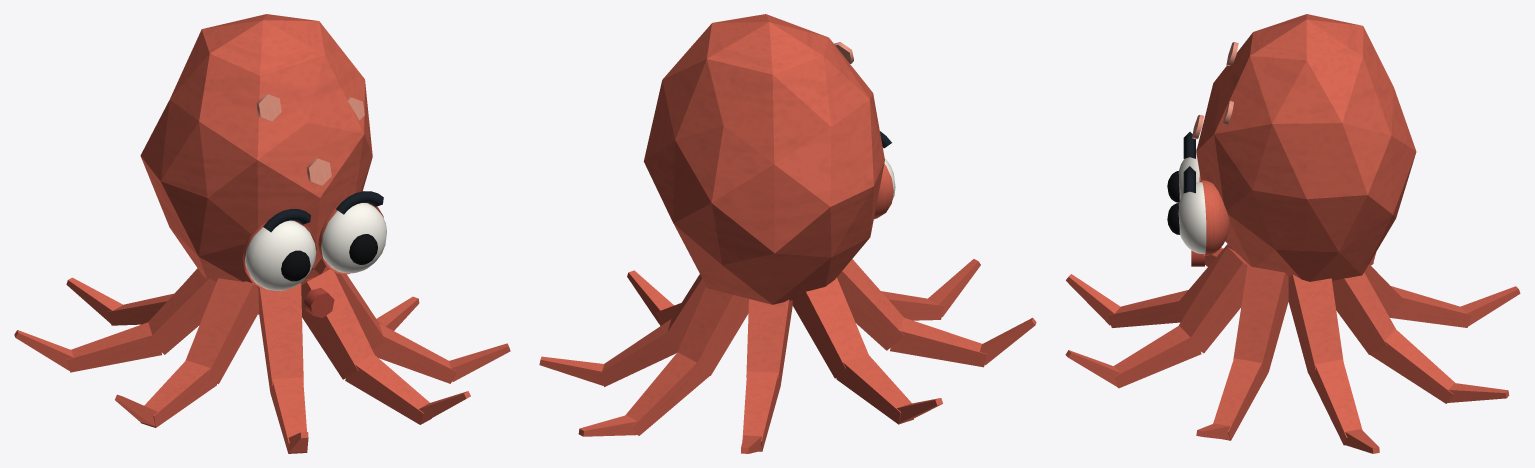
File: octopus.glb
3 renders of one model, left to right at view 1: azimuth 30°, elevation 25°; view 2: azimuth 150°, elevation 25°; view 3: azimuth 270°, elevation 25°, orthographic. The views are drawn at different scales.
Parts seen in each view (by area): view 1: head, t6, t0, t7, t5, tb0, tb5, tb6, tb1, tb7, t1, tb4 (+7 smaller); view 2: head, t5, t3, t6, t4, tb3, tb6, tb5, tb2, tb4, t2, tb7 (+6 smaller); view 3: head, t1, t0, t2, t3, tb3, tb0, tb2, tb1, tb4, tb7, tc7 (+6 smaller).
Part boxes in pixels (x1,y1,x2,y2): head: [140, 14, 386, 291]; t6: [185, 278, 258, 384]; t0: [301, 269, 374, 379]; t7: [258, 283, 303, 391]; t5: [148, 268, 216, 354]; tb0: [345, 354, 431, 424]; tb5: [67, 322, 161, 372]; tb6: [140, 360, 216, 427]; tb1: [372, 323, 457, 383]; tb7: [270, 377, 307, 453]; t1: [306, 266, 386, 349]; tb4: [107, 293, 174, 325]; head: [643, 14, 895, 304]; t5: [792, 277, 868, 378]; t3: [677, 286, 748, 375]; t6: [837, 259, 904, 350]; t4: [746, 299, 792, 384]; tb3: [625, 352, 709, 435]; tb6: [890, 317, 986, 367]; tb5: [836, 354, 913, 424]; tb2: [596, 319, 679, 386]; tb4: [742, 371, 780, 451]; t2: [664, 274, 706, 346]; tb7: [881, 291, 944, 320]; head: [1167, 14, 1416, 281]; t1: [1233, 266, 1288, 373]; t0: [1179, 247, 1250, 353]; t2: [1288, 274, 1343, 373]; t3: [1332, 272, 1395, 354]; tb3: [1370, 329, 1454, 403]; tb0: [1114, 326, 1201, 388]; tb2: [1308, 359, 1362, 445]; tb1: [1213, 358, 1267, 440]; tb4: [1390, 286, 1472, 327]; tb7: [1107, 290, 1187, 327]; tc7: [1066, 274, 1120, 325].
Size of the model in its own units: 0.9954 by 0.876 by 1.
Materials: 10 (7 with a texture image).
